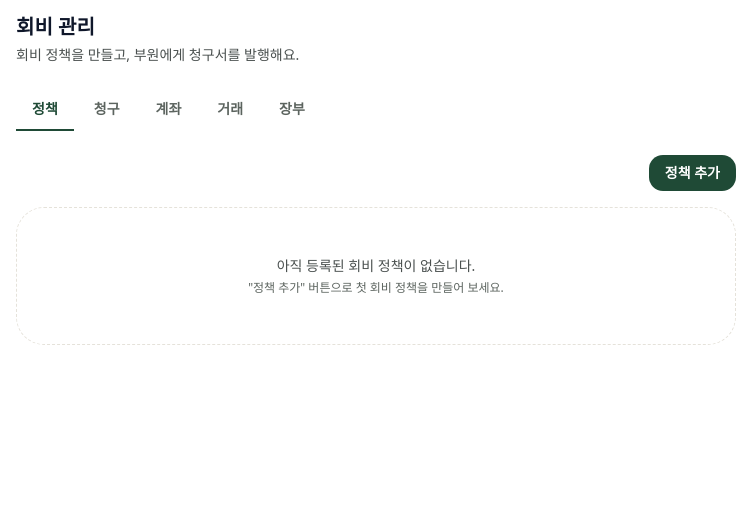
ClubFeesPage 거래 탭 게이팅 › 자동매칭 사용 가능(enabled=true) 이면 동기화 버튼과 검토 큐를 노출한다
The image size is (753, 532).
Click the tab "거래": (230, 110) [201,89,259,131]
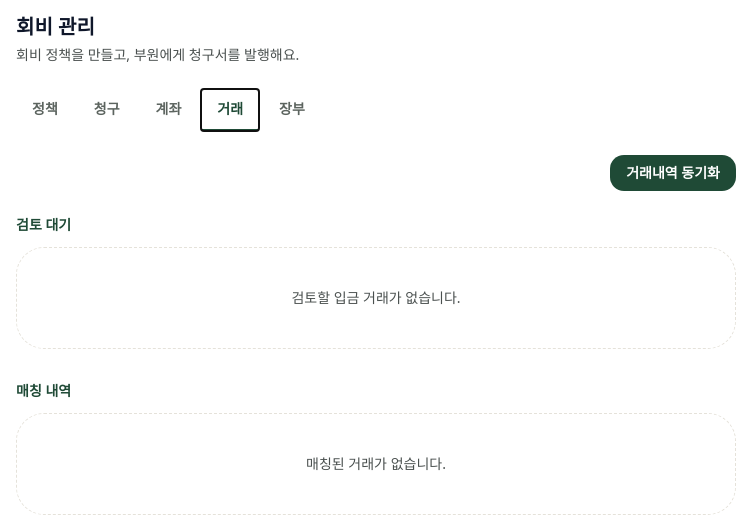
Check: the button "거래내역 동기화" is shown, box [610,155,736,191]
Check: the text "검토할 입금 거래가 없습니다." is shown, box [291,288,461,307]
